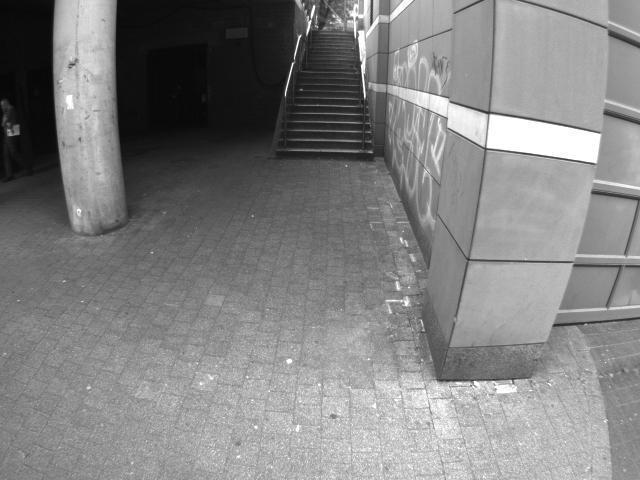Escaleras: (275, 33, 376, 158)
